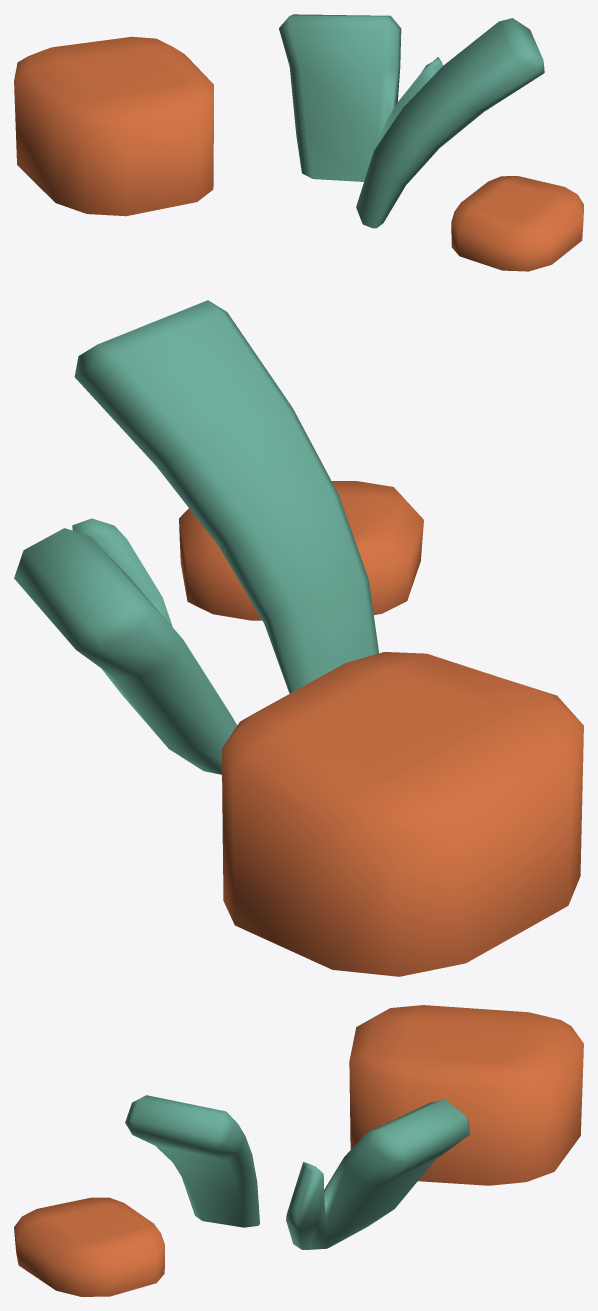
The model's file is blue_grass_small.glb.
The picture shows the model from 3 angles, top to bottom: view 1: azimuth 30°, elevation 25°; view 2: azimuth 150°, elevation 25°; view 3: azimuth 270°, elevation 25°; orthographic projection. The views are drawn at different scales.
Parts seen in each view (by area): view 1: blue_grass_small; view 2: blue_grass_small; view 3: blue_grass_small.
Boxes of the visible parts, left/top/right/bottom form: blue_grass_small: left=14, top=14, right=583, bottom=271; blue_grass_small: left=14, top=300, right=583, bottom=976; blue_grass_small: left=14, top=1005, right=583, bottom=1296.
Bounding box in the file's own units: 1.26 × 0.5302 × 1.5.
1 material, 1 textured.
